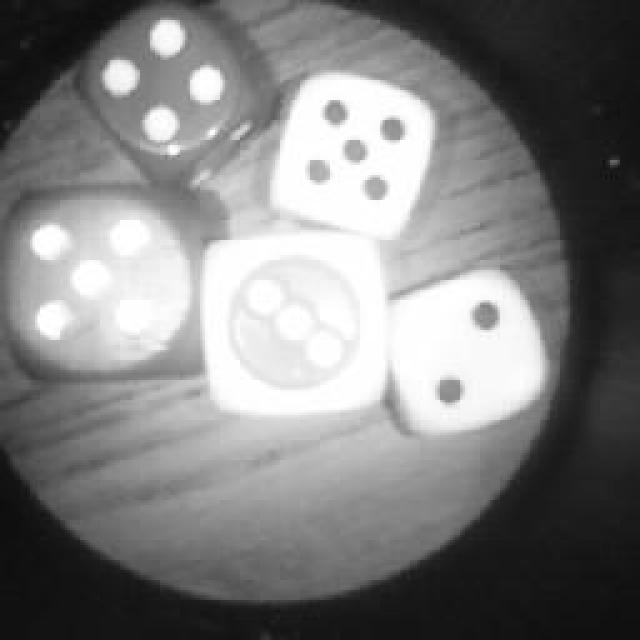dice_2: (377, 265, 555, 445)
dice_3: (200, 222, 398, 422)
dice_4: (70, 0, 275, 198)
dice_5: (0, 180, 215, 390), (268, 70, 440, 238)
